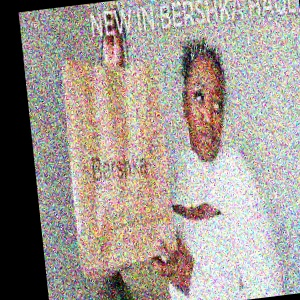bershka: (120, 67, 185, 217)
